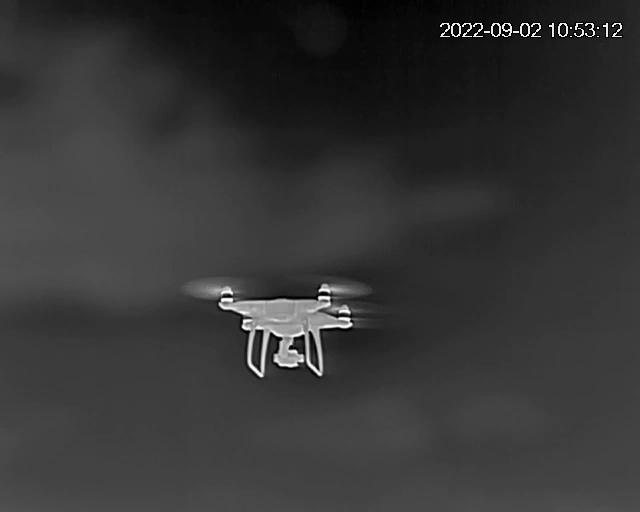DJI-Phantom: (180, 275, 381, 382)
